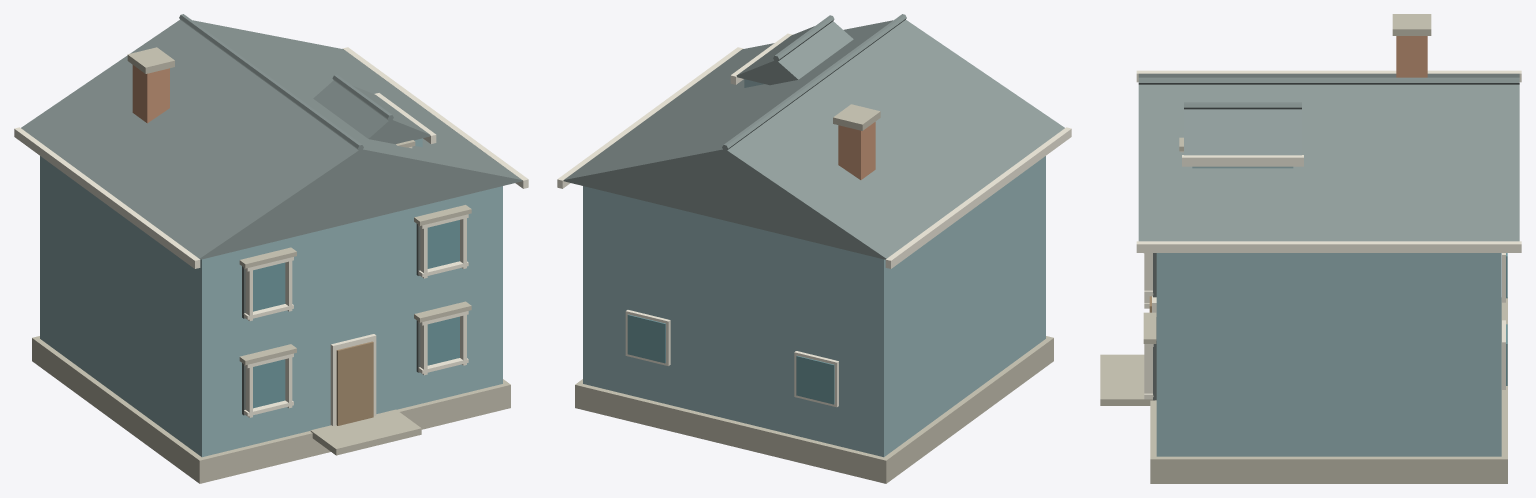
3 views of the same model, side by side, from view 1: azimuth 30°, elevation 25°; view 2: azimuth 150°, elevation 25°; view 3: azimuth 270°, elevation 25° (orthographic). The views are drawn at different scales.
Bounding box in the file's own units: 9.76 × 8.9 × 10.01.
